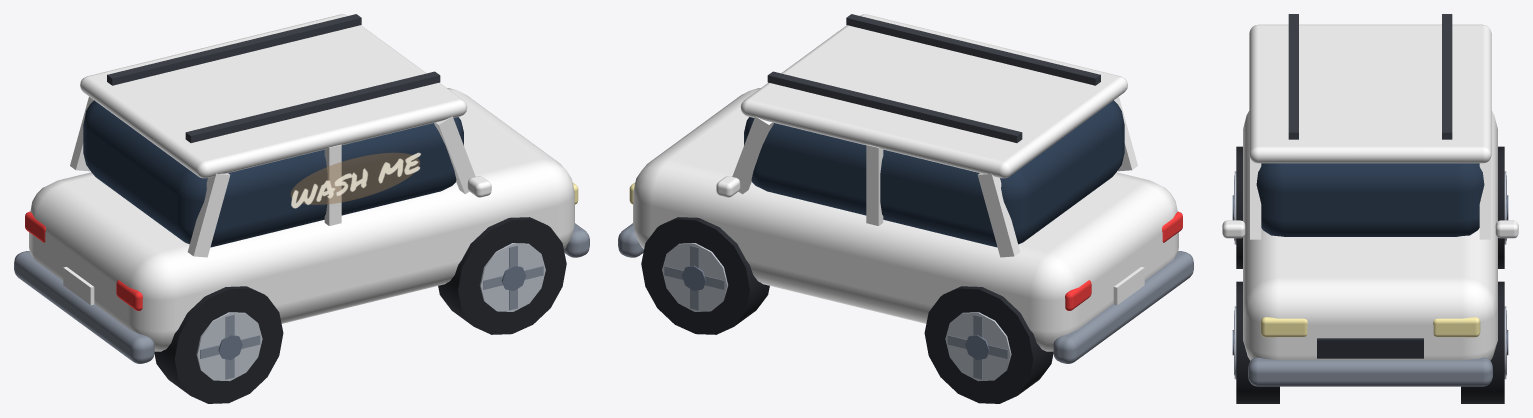
Rendered from car_suv.glb.
The picture shows the model from 3 angles, left to right: view 1: azimuth 30°, elevation 25°; view 2: azimuth 150°, elevation 25°; view 3: azimuth 270°, elevation 25°; orthographic projection. The views are drawn at different scales.
Parts seen in each view (by area): view 1: Paint, Trim, Wheel1, Wheel0, WashMe; view 2: Paint, Trim, Wheel3, Wheel2; view 3: Paint, Trim, Wheel0, Wheel2, Wheel1, Wheel3.
Part boxes in pixels (left/top/right/bottom): Paint: left=29, top=14, right=574, bottom=351; Trim: left=14, top=100, right=589, bottom=363; Wheel1: left=154, top=286, right=283, bottom=403; Wheel0: left=438, top=217, right=566, bottom=334; WashMe: left=290, top=152, right=420, bottom=208; Paint: left=633, top=14, right=1178, bottom=351; Trim: left=618, top=100, right=1193, bottom=363; Wheel3: left=924, top=286, right=1053, bottom=403; Wheel2: left=641, top=217, right=769, bottom=334; Paint: left=1222, top=14, right=1518, bottom=360; Trim: left=1248, top=163, right=1492, bottom=386; Wheel0: left=1232, top=281, right=1279, bottom=403; Wheel2: left=1461, top=281, right=1508, bottom=403; Wheel1: left=1232, top=146, right=1242, bottom=268; Wheel3: left=1498, top=146, right=1508, bottom=268.
Bounding box in the file's own units: 4.04 × 2.11 × 2.32.
Materials: 7 (1 with a texture image).
